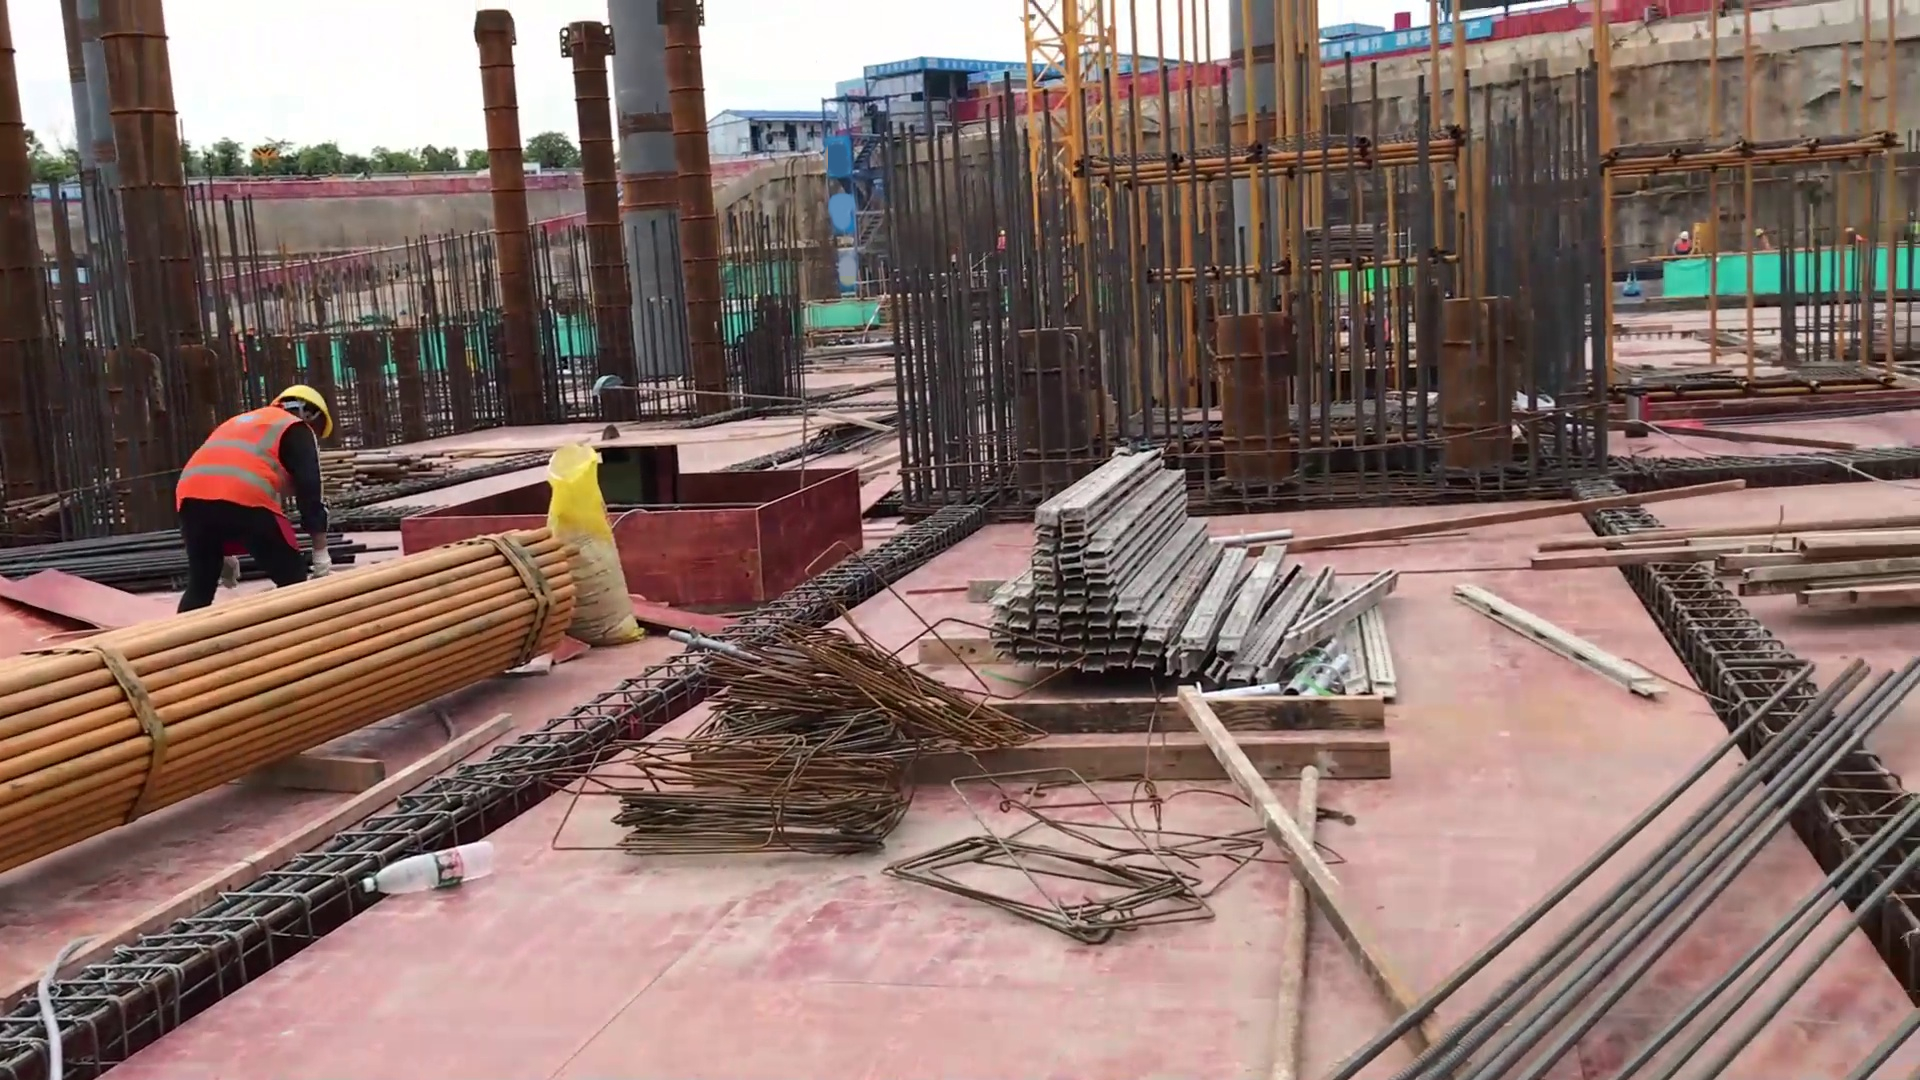helmet: (286, 371, 351, 437), (1359, 290, 1377, 303), (1756, 224, 1767, 236), (1679, 229, 1690, 239), (1844, 225, 1854, 235), (1906, 210, 1916, 219), (1000, 229, 1006, 235)
person: (161, 363, 361, 580), (1355, 287, 1402, 351), (1671, 226, 1697, 261), (1753, 222, 1771, 250), (1903, 212, 1920, 238), (1845, 228, 1871, 242), (998, 227, 1007, 253)
vest: (183, 402, 304, 531), (1354, 307, 1389, 346), (1674, 236, 1693, 253), (1906, 221, 1920, 238), (1757, 235, 1770, 249), (1850, 233, 1870, 242), (998, 236, 1007, 251)
